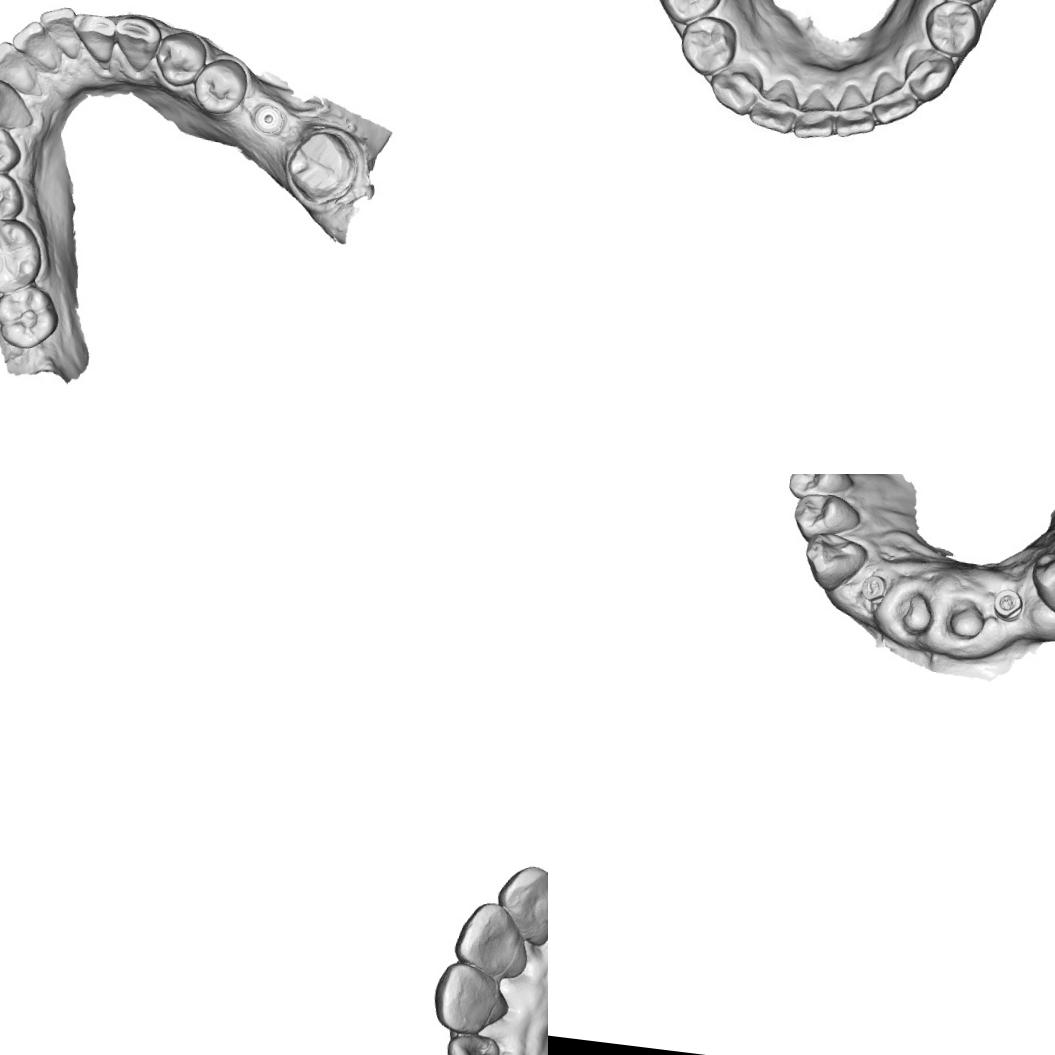canine: (800, 529, 870, 596), (900, 43, 961, 107), (109, 12, 164, 75), (706, 58, 764, 117), (1025, 544, 1055, 617), (0, 77, 38, 132)
crown: (281, 124, 361, 210)
implant: (990, 586, 1026, 623), (250, 102, 286, 136), (859, 572, 889, 603)
incisor: (428, 958, 514, 1038), (452, 898, 535, 972), (492, 861, 548, 949), (870, 70, 925, 132), (788, 86, 844, 144), (745, 75, 798, 134), (33, 3, 86, 61), (8, 17, 63, 72), (832, 82, 880, 144), (66, 9, 118, 66), (0, 37, 41, 97), (440, 1029, 503, 1055)
molar: (0, 279, 63, 352), (0, 214, 47, 298)
premolar: (790, 490, 864, 548), (918, 0, 985, 64), (676, 14, 736, 80), (190, 54, 251, 118), (152, 28, 210, 90), (787, 474, 855, 505), (655, 0, 728, 26), (0, 169, 28, 225), (0, 122, 24, 177)
